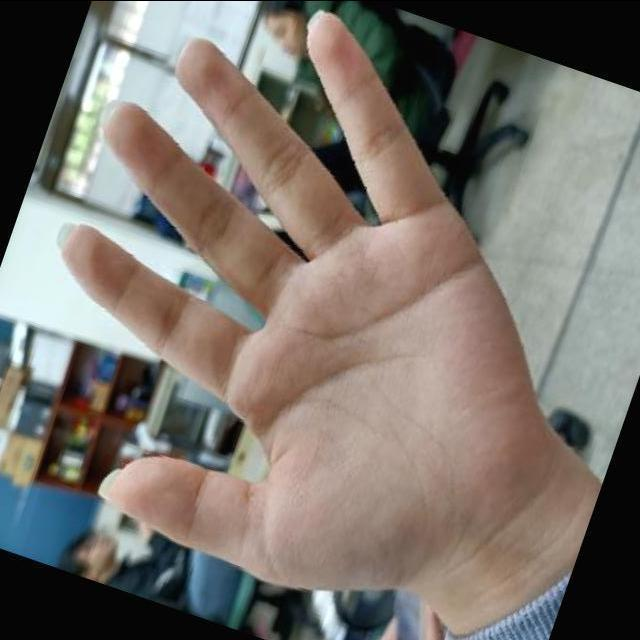Hand: (57, 12, 576, 599)
